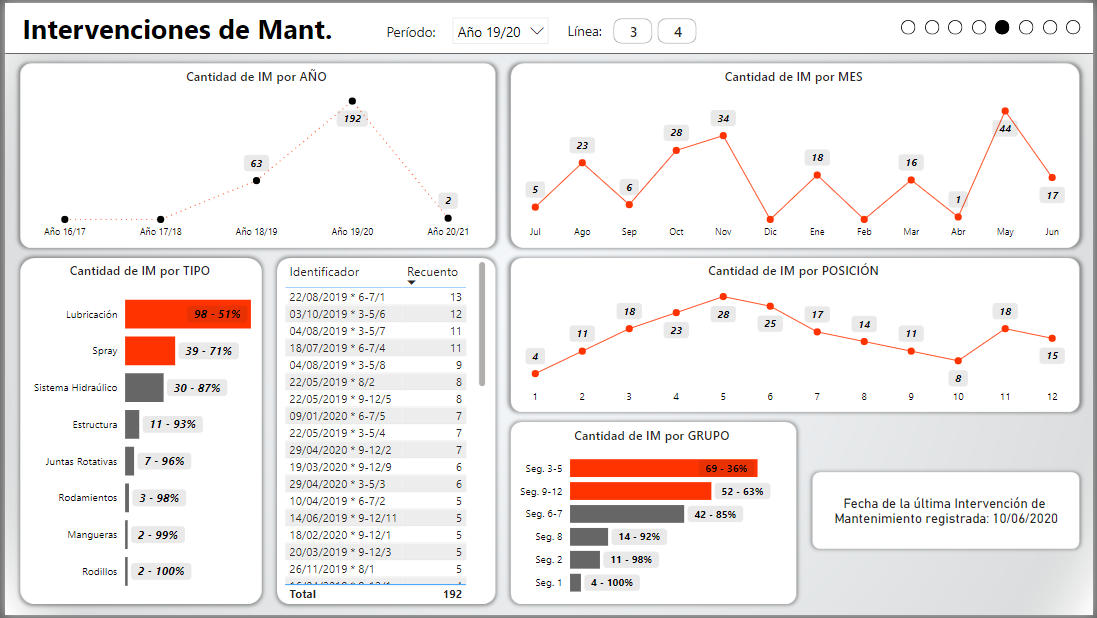

Layout of this report page (visuals, bound fields, positions):
{"tool":"powerbi","page":{"name":"🔨 Intervenciones de Mantenimiento","canvas":[1280,720],"ordinal":4},"visuals":[{"type":"textbox","box":[15.5,7,384,47.8],"z":0},{"type":"barChart","title":"Cantidad de IM por TIPO","fields":{"Category":["vIntervencionesMantenimiento.NombreFamilia","vIntervencionesMantenimiento.IdCampania"],"Y":["Medidas.IM Recuento TOTAL según Fecha de la IM"]},"box":[15.5,298.7,287,409.9],"z":1000},{"type":"slicer","fields":{"Values":["vCalendario.AnioFiscal"]},"box":[516.4,7,133.2,47.8],"z":2000,"group":"g1"},{"type":"barChart","title":"Cantidad de IM por GRUPO","fields":{"Category":["vSegmento.Grupo"],"Y":["Medidas.IM Recuento TOTAL según Fecha de la IM"]},"box":[592.2,492.6,338.7,215.9],"z":2000},{"type":"lineChart","title":"Cantidad de IM por POSICIÓN","fields":{"Category":["vCampania.PosicionEnLinea","vCampania.Identificador"],"Y":["Medidas._IM Recuento usando relación de fecha distinta"]},"box":[592.2,298.7,672.3,182.3],"z":3000},{"type":"lineChart","title":"Cantidad de IM por MES","fields":{"Category":["vCalendario.AnioFiscal Jerarquía.NombreTrimestreFiscal","vCalendario.AnioFiscal Jerarquía.NombreMesCorto","vCalendario.AnioFiscal Jerarquía.Fecha"],"Y":["Medidas._IM Recuento usando relación de fecha distinta"]},"box":[592.2,71.1,672.3,217.2],"z":4000},{"type":"textbox","box":[443.5,23,80,32],"z":5000,"group":"g1"},{"type":"card","fields":{"Values":["Medidas._IM Última Fecha de Actualización"]},"box":[949,552.1,315.5,91.8],"z":5000},{"type":"tableEx","title":"Total de Horas por Grupo de Segmento","fields":{"Values":["vCampania.Identificador","Medidas._IM Recuento con relación de fecha distinta SIN VALORES NULOS ETIQUETAS"]},"box":[319.4,298.7,257.3,409.9],"z":6000},{"type":"lineChart","title":"Cantidad de IM por AÑO","fields":{"Category":["vCalendario.AnioFiscal Jerarquía.AnioFiscal","vCalendario.AnioFiscal Jerarquía.NombreTrimestreFiscal","vCalendario.AnioFiscal Jerarquía.NombreMesCorto","vCalendario.AnioFiscal Jerarquía.Fecha"],"Y":["Medidas._IM Recuento usando relación de fecha distinta"]},"box":[15.5,71.1,561.1,217.2],"z":7000},{"type":"actionButton","box":[1054.5,20,17,17.3],"z":8000},{"type":"actionButton","box":[1248.2,20,16.9,16.9],"z":9000},{"type":"actionButton","box":[1082.2,20,17,17.3],"z":10000},{"type":"actionButton","box":[1109.9,20,17,17.3],"z":11000},{"type":"actionButton","box":[1137.6,20,17,17.3],"z":12000},{"type":"actionButton","box":[1165.3,20,17,17.3],"z":13000},{"type":"actionButton","box":[1193,20,17,17.3],"z":14000},{"type":"actionButton","box":[1220.7,20,16.9,17.3],"z":15000},{"type":"group","id":"g1","title":"Grupo 1","box":[443.5,7,374.5,48],"z":16000},{"type":"advancedSlicerVisual","fields":{"Values":["vCampania.Linea"]},"box":[710,13.5,108,40],"z":17000,"group":"g1"},{"type":"textbox","box":[656,22.5,64,32],"z":21000,"group":"g1"}]}

Visuals, with their boxes in screenshot pixels (x1, y1, x2, y2), scaled from the page's 1280x720 canvas onto the 1097x618 screenshot:
textbox: (x1=13, y1=6, x2=342, y2=47)
"Cantidad de IM por TIPO" barChart: (x1=13, y1=256, x2=259, y2=608)
slicer - vCalendario.AnioFiscal: (x1=443, y1=6, x2=557, y2=47)
"Cantidad de IM por GRUPO" barChart: (x1=508, y1=423, x2=798, y2=608)
"Cantidad de IM por POSICIÓN" lineChart: (x1=508, y1=256, x2=1084, y2=413)
"Cantidad de IM por MES" lineChart: (x1=508, y1=61, x2=1084, y2=247)
textbox: (x1=380, y1=20, x2=449, y2=47)
card - Medidas._IM Última Fecha de Actualización: (x1=813, y1=474, x2=1084, y2=553)
"Total de Horas por Grupo de Segmento" tableEx: (x1=274, y1=256, x2=494, y2=608)
"Cantidad de IM por AÑO" lineChart: (x1=13, y1=61, x2=494, y2=247)
actionButton: (x1=904, y1=17, x2=918, y2=32)
actionButton: (x1=1070, y1=17, x2=1084, y2=32)
actionButton: (x1=927, y1=17, x2=942, y2=32)
actionButton: (x1=951, y1=17, x2=966, y2=32)
actionButton: (x1=975, y1=17, x2=990, y2=32)
actionButton: (x1=999, y1=17, x2=1013, y2=32)
actionButton: (x1=1022, y1=17, x2=1037, y2=32)
actionButton: (x1=1046, y1=17, x2=1061, y2=32)
"Grupo 1" group: (x1=380, y1=6, x2=701, y2=47)
advancedSlicerVisual - vCampania.Linea: (x1=608, y1=12, x2=701, y2=46)
textbox: (x1=562, y1=19, x2=617, y2=47)
